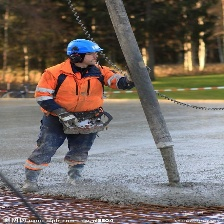helmet: (62, 39, 102, 56)
person: (19, 38, 140, 192)
vest: (33, 64, 122, 127)
